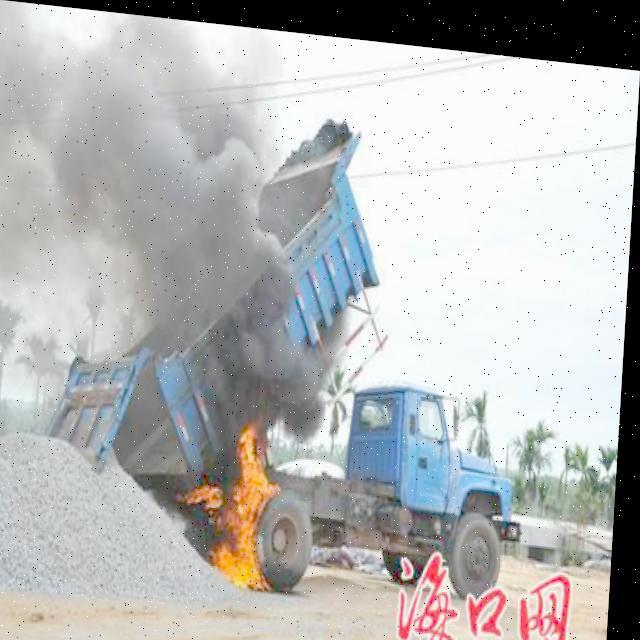Fire: (194, 402, 288, 588)
